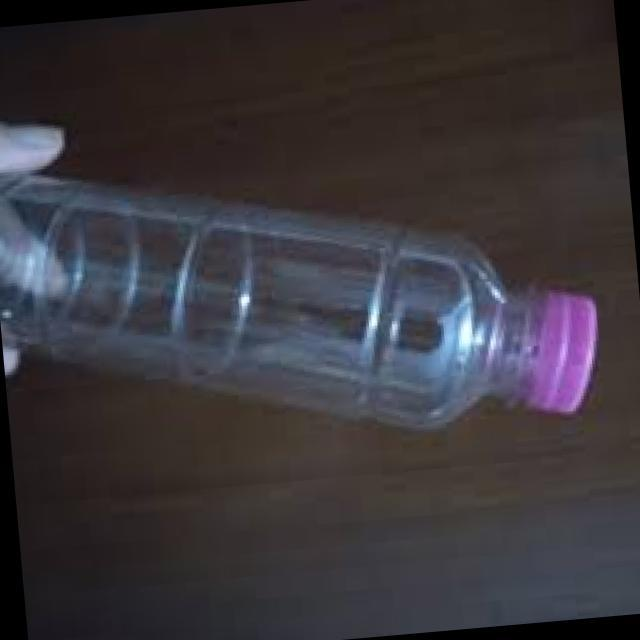good: (1, 132, 604, 462)
